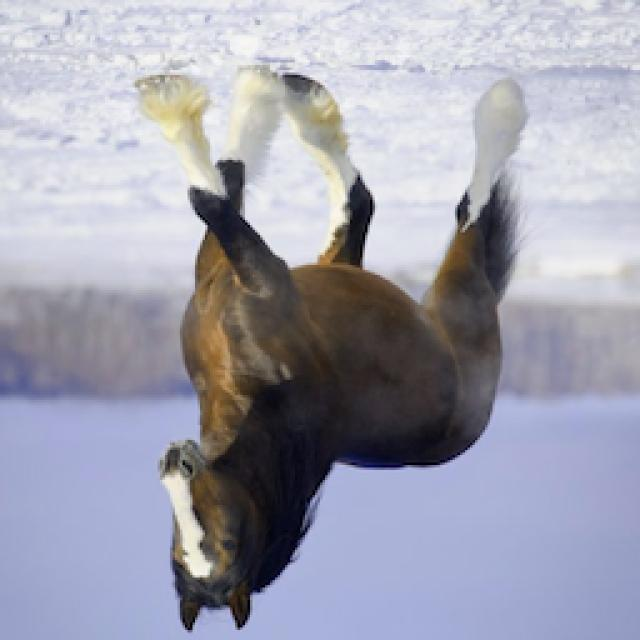Horse: (128, 65, 538, 638)
